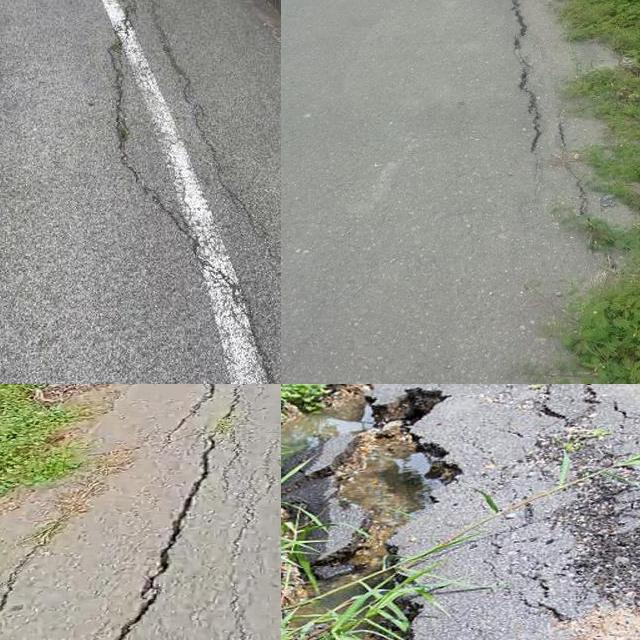Memanjang: (94, 0, 281, 384), (65, 384, 263, 640)
Pinggir: (496, 0, 640, 283), (331, 384, 481, 640)
